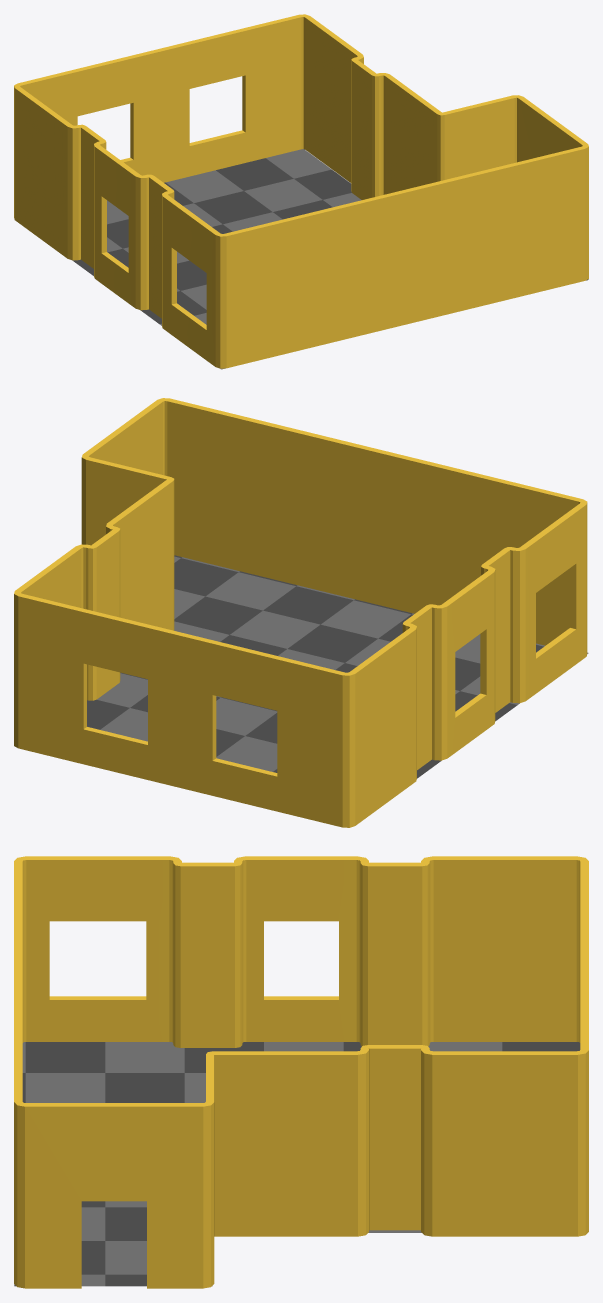
The model's file is Room.FBX.
The picture shows the model from 3 angles, top to bottom: view 1: azimuth 30°, elevation 25°; view 2: azimuth 150°, elevation 25°; view 3: azimuth 270°, elevation 25°; orthographic projection. The views are drawn at different scales.
Parts seen in each view (by area): view 1: Room; view 2: Room; view 3: Room.
Boxes of the visible parts, <box> form: Room: <box>14,14,588,369</box>; Room: <box>14,398,588,827</box>; Room: <box>14,856,588,1288</box>.
Bounding box in the file's own units: 17.26 × 5.85 × 16.76.
